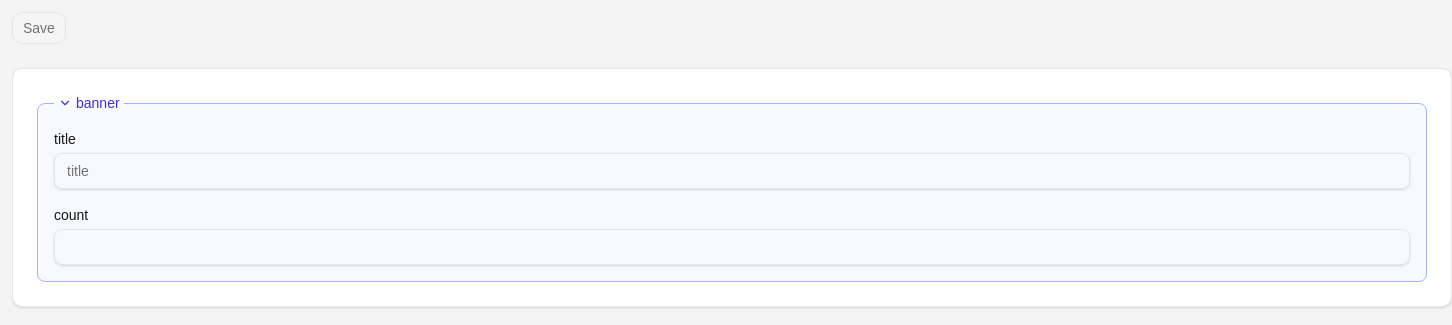
Test: ContentTypeBuilder — collapsible components › shows hint text from first text field value
Type "Hello World" into the field labelled "title" at coordinates (732, 171), box left=54, top=153, right=1410, bottom=189
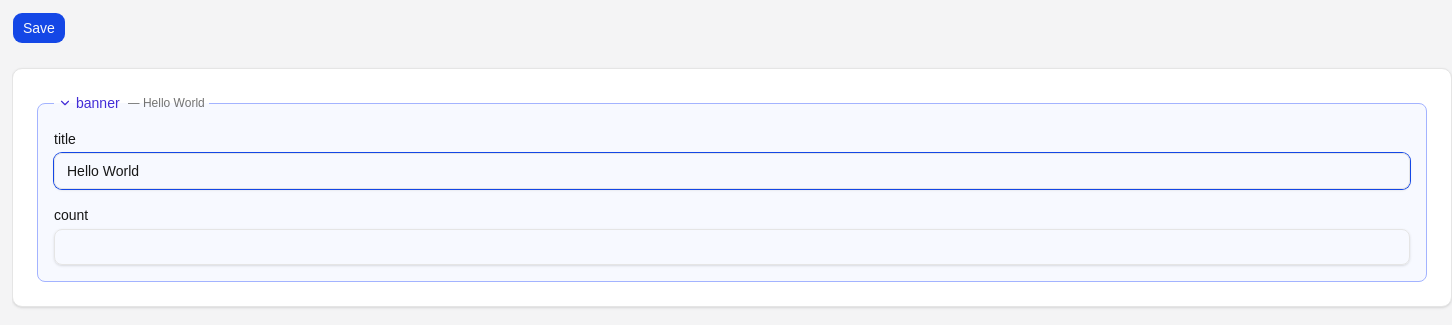
Now the text "— Hello World" is shown, box left=128, top=95, right=205, bottom=111
